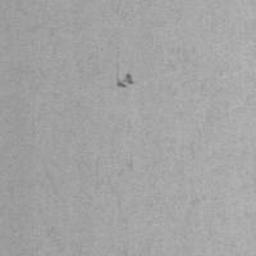Inclusion: (115, 73, 136, 90)
